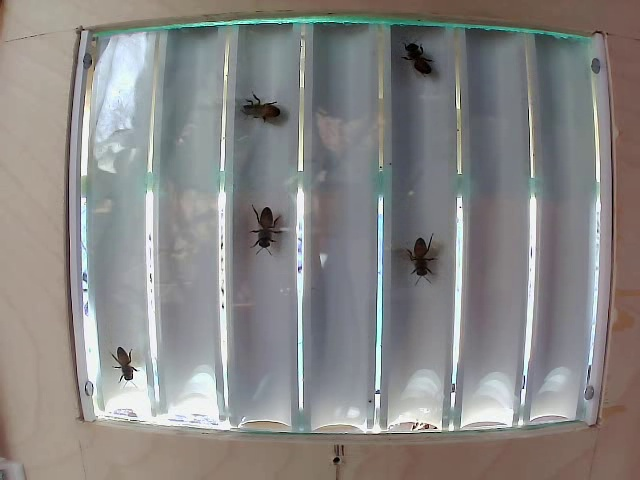bee: (237, 79, 289, 128), (407, 219, 439, 285), (254, 200, 279, 263), (410, 38, 433, 84)
